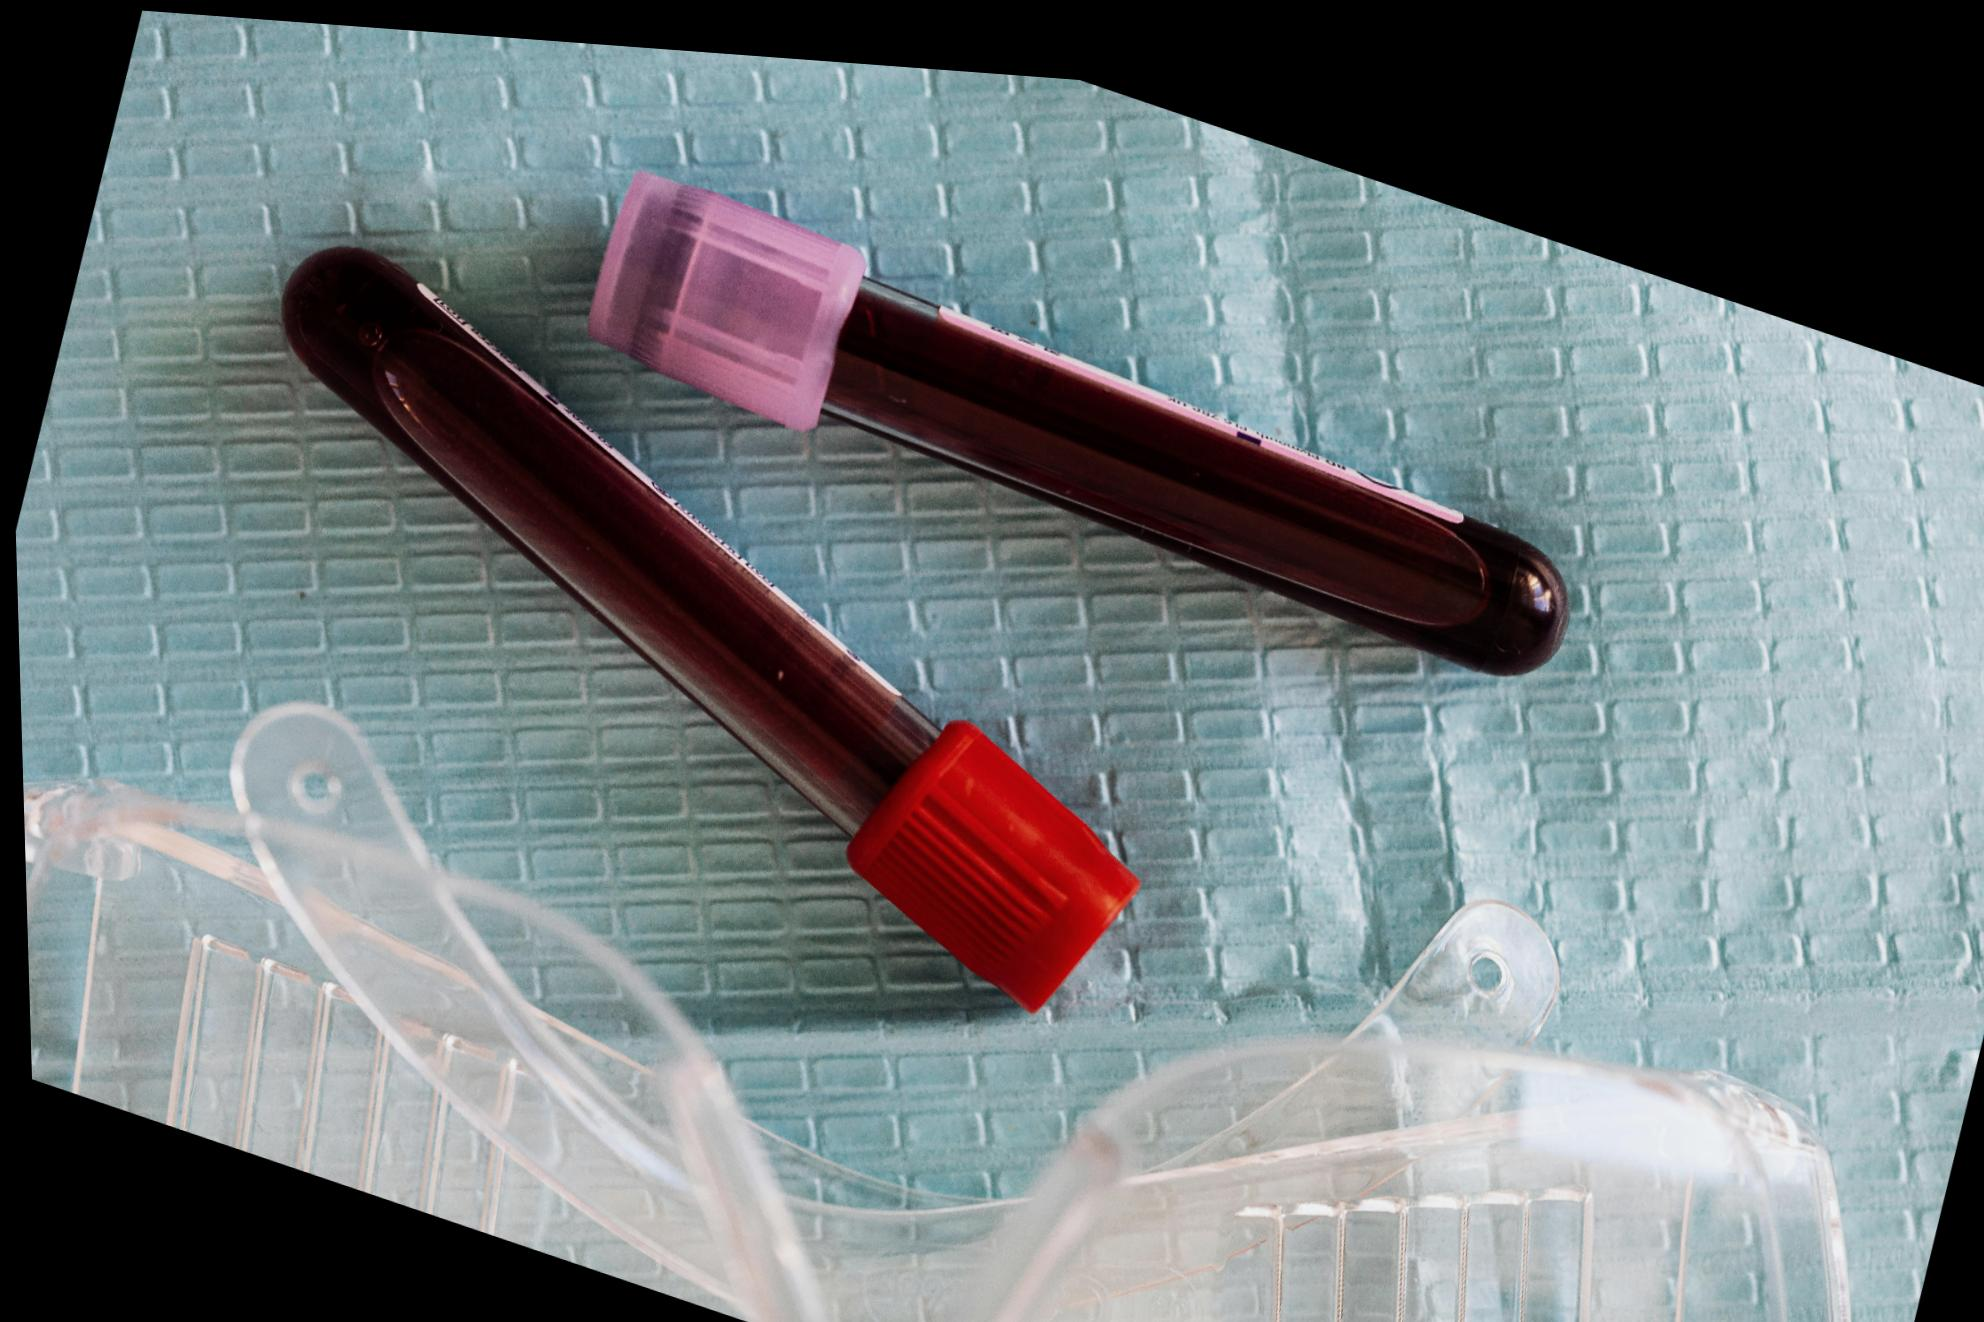Fire: (277, 240, 934, 823), (819, 263, 1568, 652)
